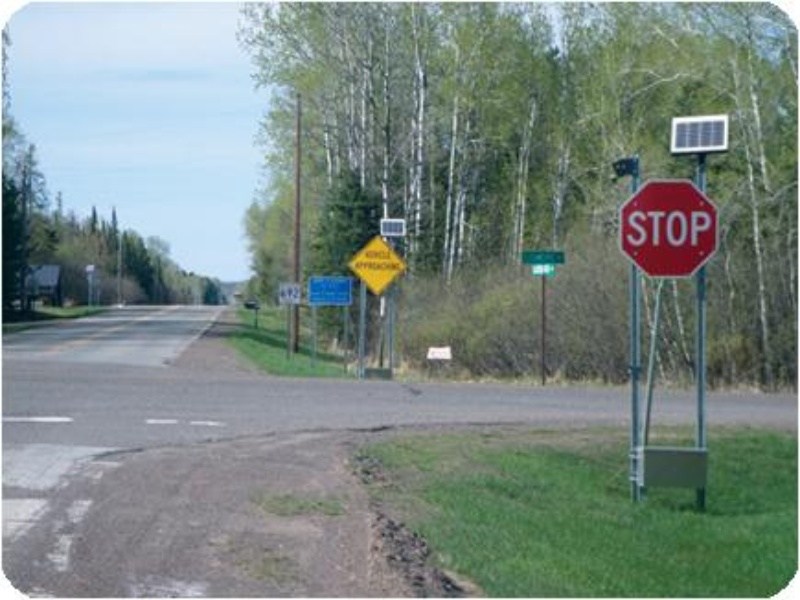stop sign: (616, 177, 720, 284)
